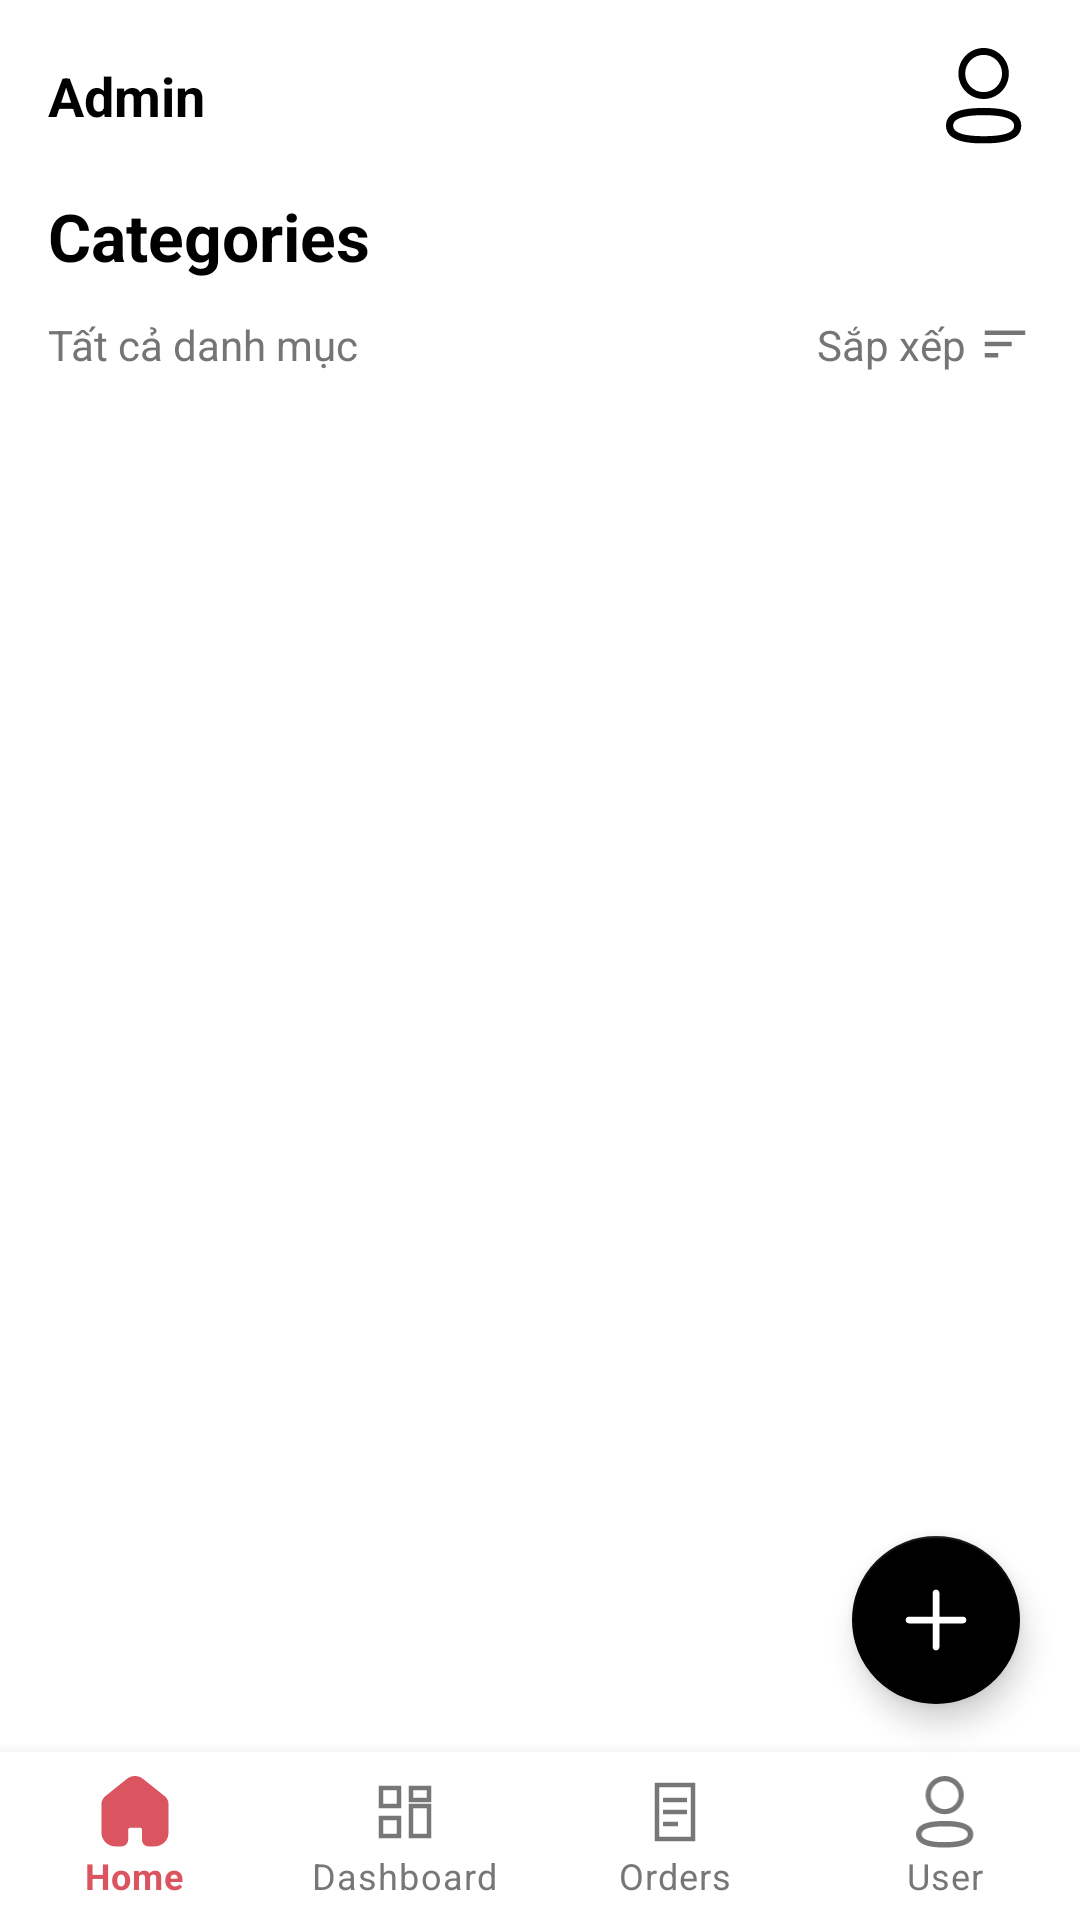

Named icons in this screenshot (1080×1920) and their bounding boxes, [x1=x1, y1=y1, x2=x2, y2=y2]:
Add New Category: [x1=852, y1=1536, x2=1020, y2=1704]
profile: [x1=946, y1=48, x2=1022, y2=144]
